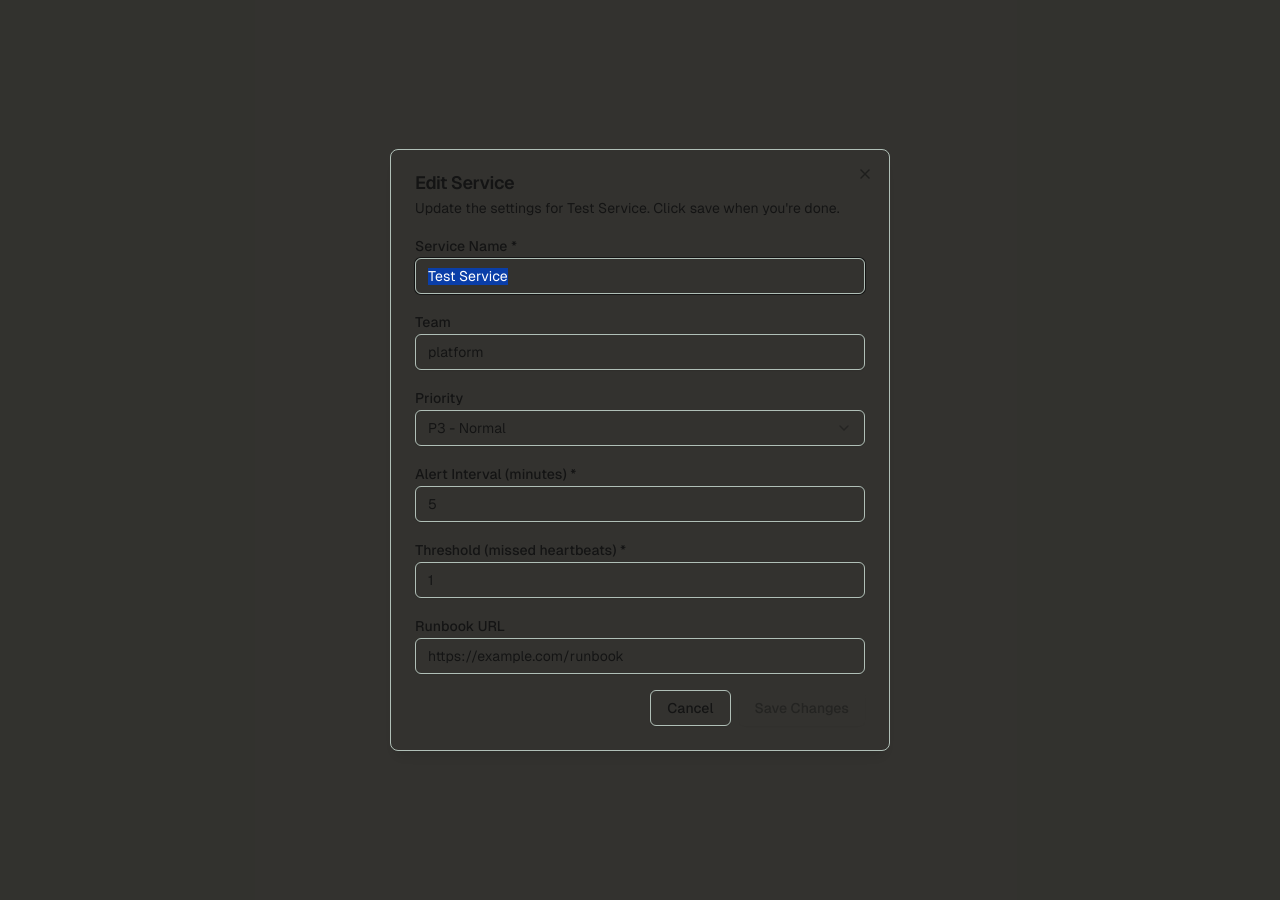
ServiceEditModal › form submission › enables save button when form is valid and has changes
The width and height of the screenshot is (1280, 900).
Clear the field labelled "Service Name *". click: (640, 276)
box: [415,258,865,294]
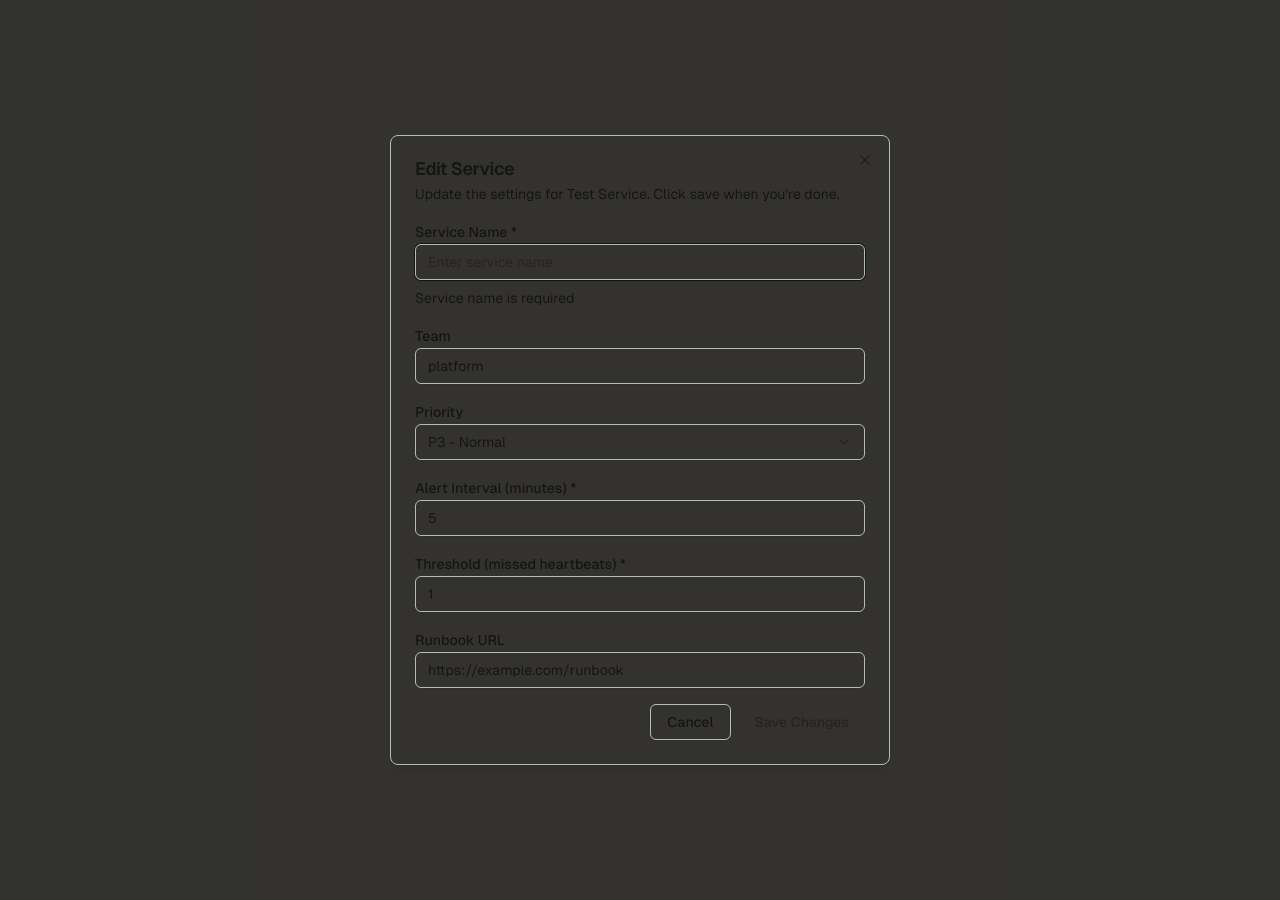
Type "Updated Service Name" into the field labelled "Service Name *". click: (640, 262)
box: [415,244,865,280]
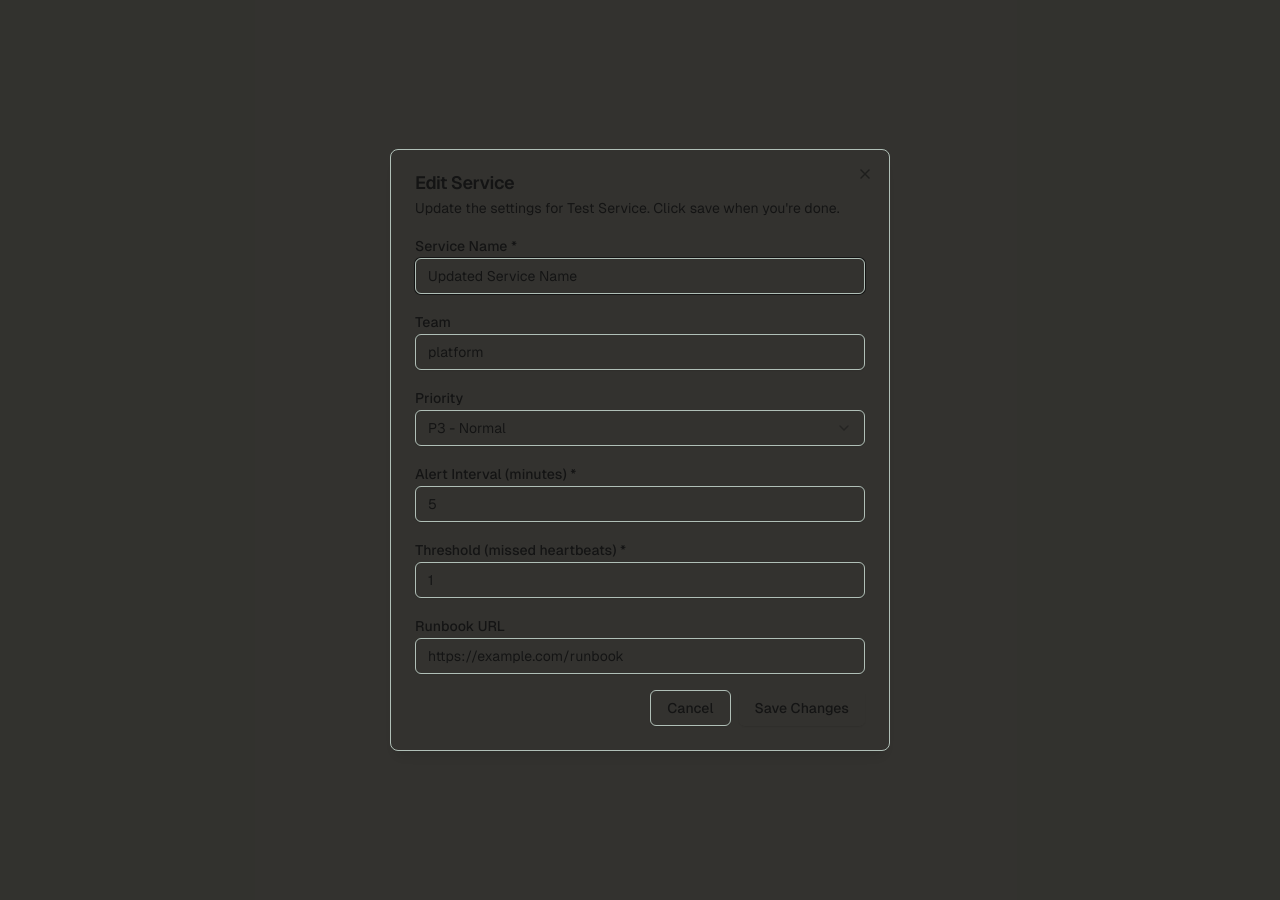
Check: the button "Save Changes" is enabled, box [739,690,865,726]
